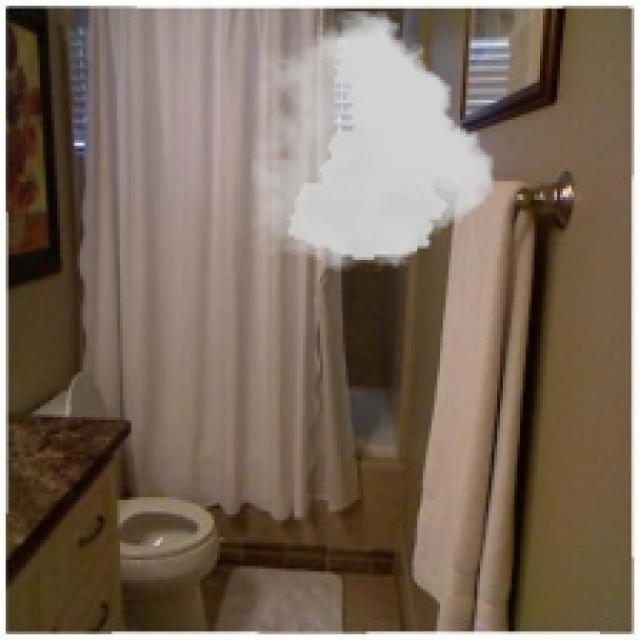Smoke: (252, 12, 494, 272)
